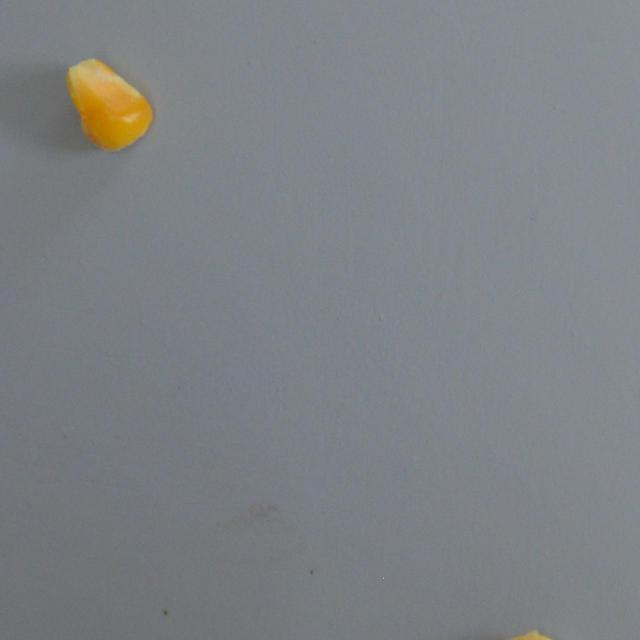dañado: (58, 46, 158, 156)
